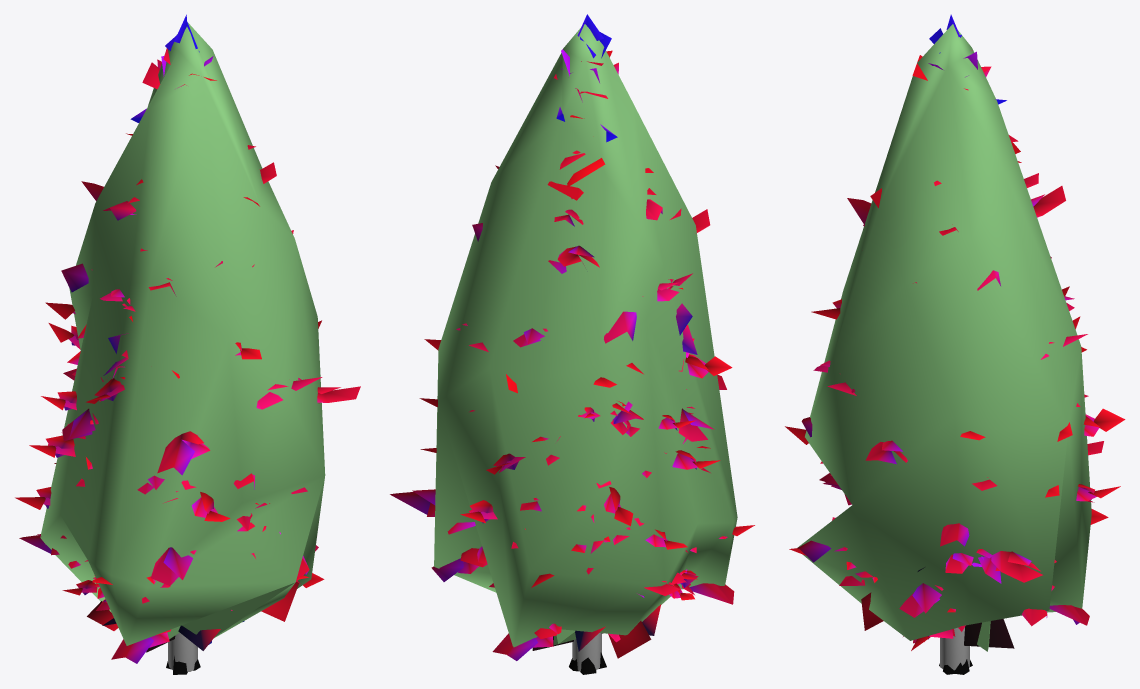
The model's file is s_douglas_lods_test.dae.
The picture shows the model from 3 angles, left to right: view 1: azimuth 30°, elevation 25°; view 2: azimuth 150°, elevation 25°; view 3: azimuth 270°, elevation 25°; orthographic projection.
Parts seen in each view (by area): view 1: Colmesh_tree_douglasfir_large_a-1, tree_douglasfir_large_a_l1000; view 2: Colmesh_tree_douglasfir_large_a-1, tree_douglasfir_large_a_l1000; view 3: Colmesh_tree_douglasfir_large_a-1, tree_douglasfir_large_a_l1000.
Boxes of the visible parts, box(x1,y1,x2,y2) form: Colmesh_tree_douglasfir_large_a-1: box(40, 22, 325, 671); tree_douglasfir_large_a_l1000: box(15, 14, 360, 674); Colmesh_tree_douglasfir_large_a-1: box(434, 24, 737, 671); tree_douglasfir_large_a_l1000: box(390, 14, 754, 674); Colmesh_tree_douglasfir_large_a-1: box(797, 24, 1091, 670); tree_douglasfir_large_a_l1000: box(785, 14, 1125, 674).
Bounding box in the file's own units: 9.35 × 9.16 × 19.4.
